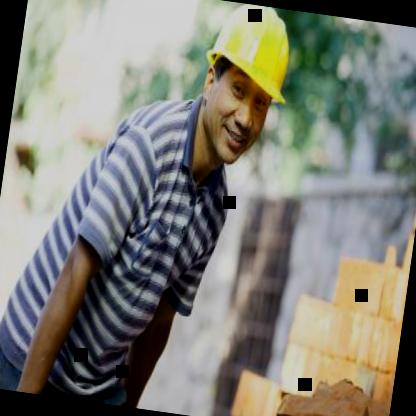helmet: (178, 0, 311, 181)
